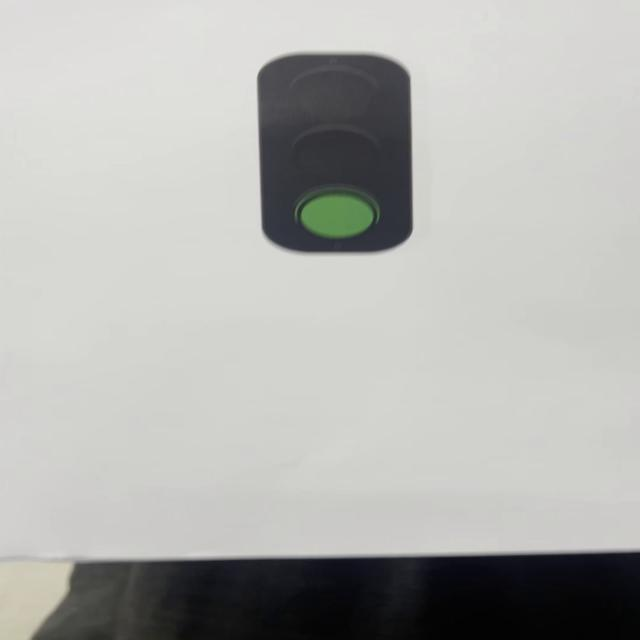green: (253, 51, 420, 258)
